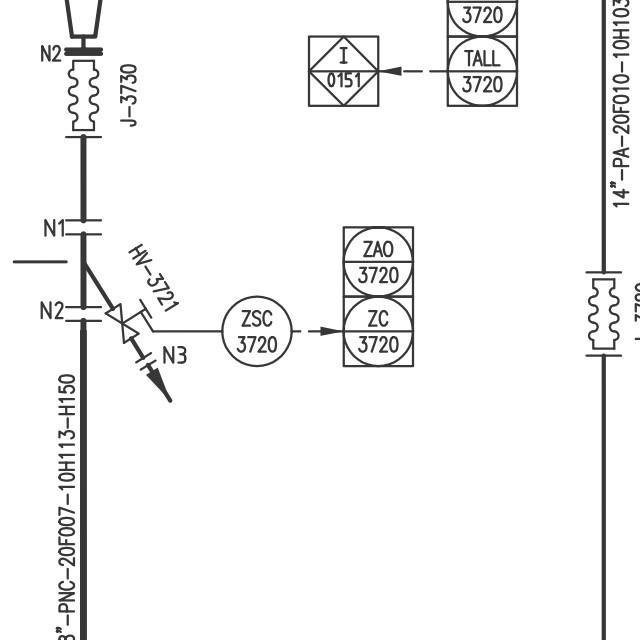EJ: (576, 263, 630, 362), (57, 47, 108, 144)
HVWT: (100, 290, 154, 345)
